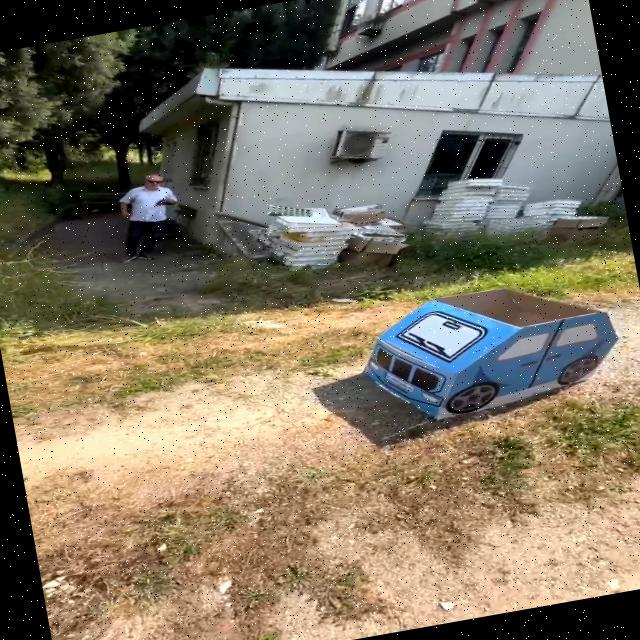blue_car: (318, 256, 637, 450)
